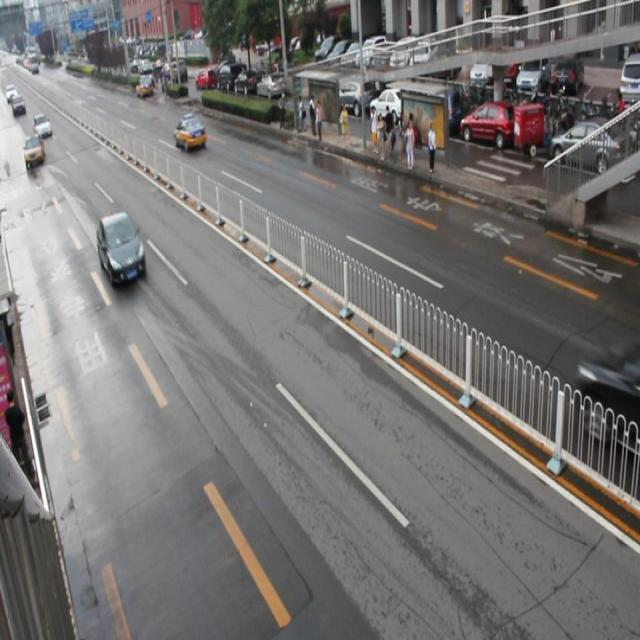car: (98, 213, 146, 284), (174, 115, 207, 154)
